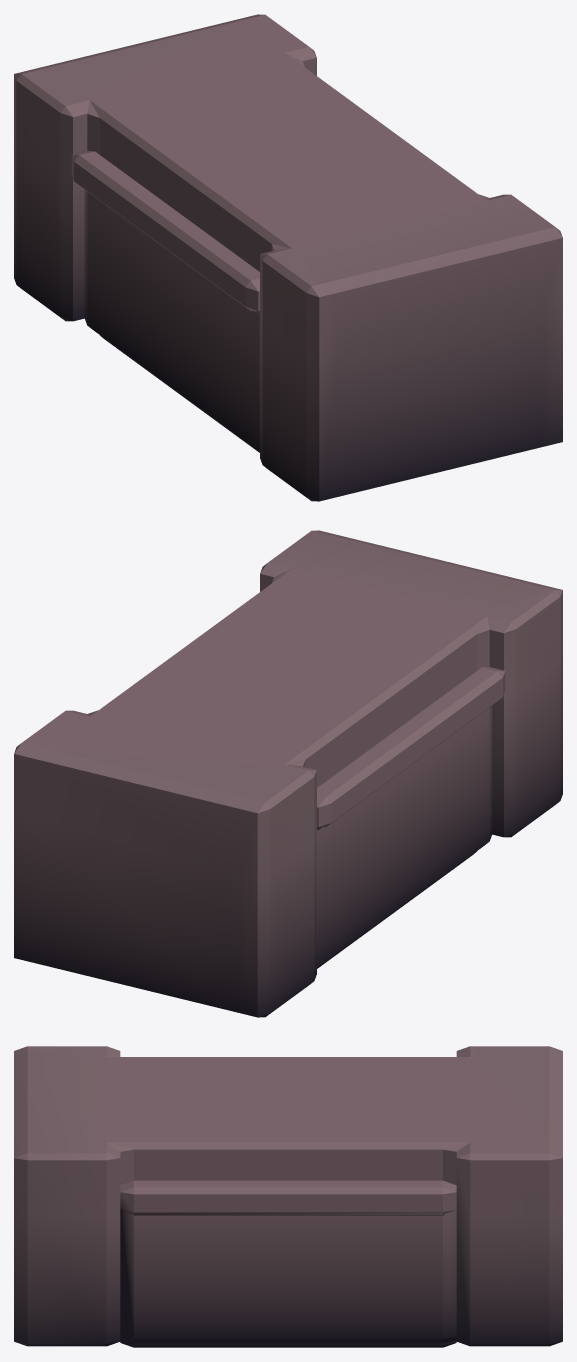
File: bridge2.fbx
3 renders of one model, top to bottom at view 1: azimuth 30°, elevation 25°; view 2: azimuth 150°, elevation 25°; view 3: azimuth 270°, elevation 25°, orthographic. The views are drawn at different scales.
Visible parts, largest first — view 1: bridge3; view 2: bridge3; view 3: bridge3.
Boxes of the visible parts, <box> form: bridge3: <box>14,14,562,501</box>; bridge3: <box>14,530,562,1017</box>; bridge3: <box>14,1046,562,1347</box>.
Size of the model in its own units: 87.9 by 74.53 by 181.
